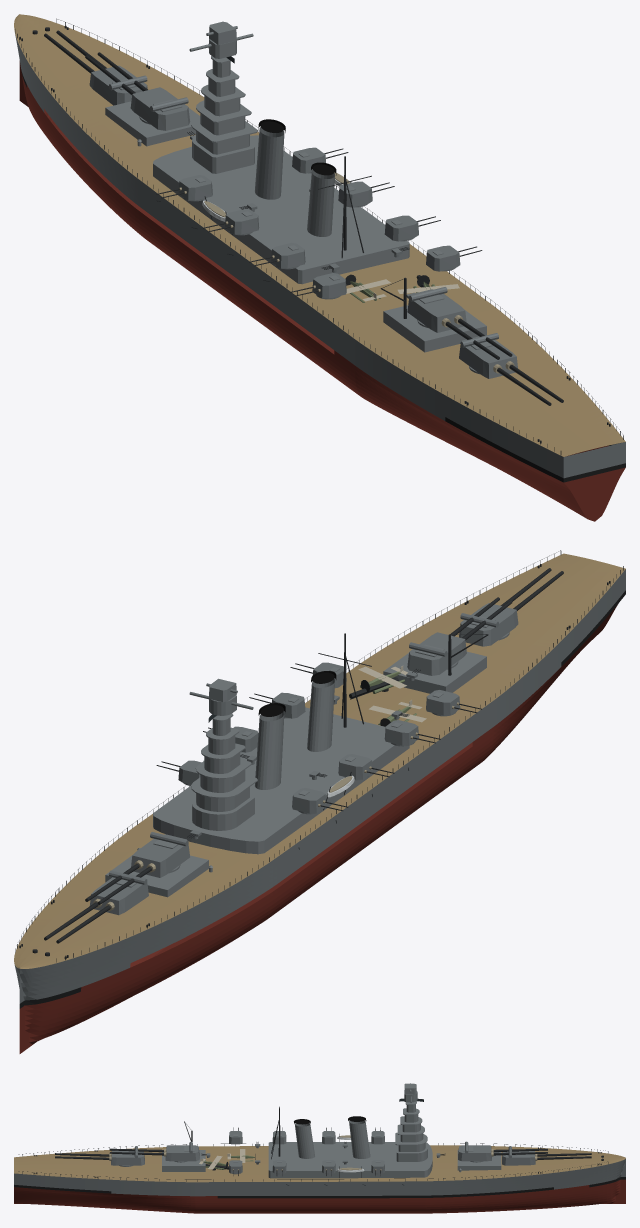
Rendered from kongo.glb.
3 renders of one model, top to bottom at view 1: azimuth 30°, elevation 25°; view 2: azimuth 150°, elevation 25°; view 3: azimuth 270°, elevation 25°, orthographic. The views are drawn at different scales.
Parts seen in each view (by area): view 1: Hull, Turret2, Turret3, Turret4, Turret1, Mount2, Mount8, Mount4, Mount6, Mount5, Mount7, Mount3 (+1 smaller); view 2: Hull, Turret2, Turret3, Turret4, Turret1, Mount2, Mount8, Mount6, Mount4; view 3: Hull, Turret3, Turret2, Turret4, Turret1.
Boxes of the visible parts, x1,y1,x2,y2 form: Hull: [14, 14, 625, 521]; Turret2: [85, 52, 190, 130]; Turret3: [407, 287, 512, 359]; Turret4: [459, 333, 563, 405]; Turret1: [44, 30, 147, 105]; Mount2: [156, 175, 212, 201]; Mount8: [290, 273, 346, 299]; Mount4: [203, 209, 259, 235]; Mount6: [249, 242, 305, 269]; Mount5: [384, 215, 440, 241]; Mount7: [426, 245, 482, 271]; Mount3: [338, 181, 394, 207]; Hull: [14, 550, 625, 1053]; Turret2: [85, 832, 189, 904]; Turret3: [407, 597, 512, 675]; Turret4: [459, 568, 563, 646]; Turret1: [44, 870, 148, 943]; Mount2: [292, 788, 348, 814]; Mount8: [426, 690, 481, 716]; Mount6: [384, 720, 440, 746]; Mount4: [338, 754, 394, 780]; Hull: [14, 1090, 625, 1213]; Turret3: [109, 1141, 199, 1162]; Turret2: [458, 1141, 547, 1162]; Turret4: [55, 1146, 144, 1166]; Turret1: [502, 1146, 591, 1165].
Bounding box in the file's own units: 41.8 × 47.47 × 223.
